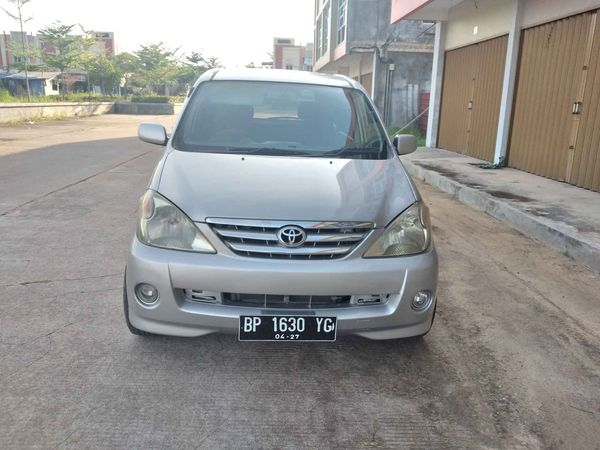plate: (237, 310, 339, 349)
